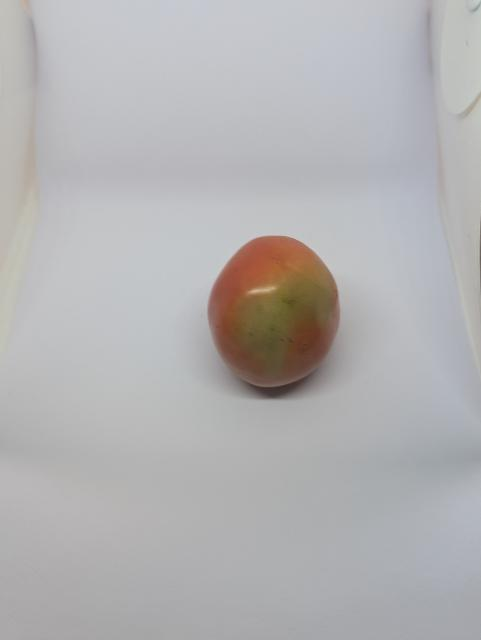turning: (205, 232, 342, 400)
